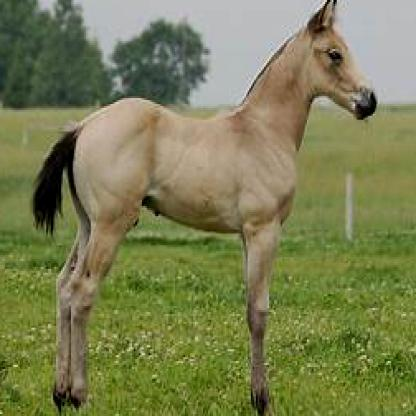horse: (33, 0, 380, 410)
